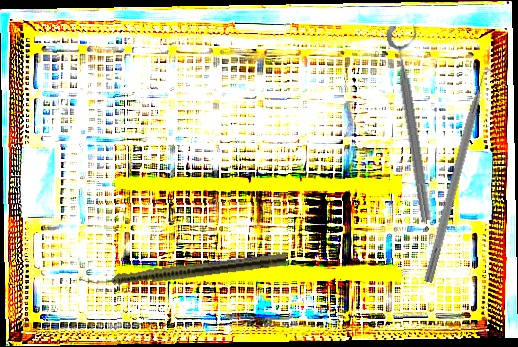Chopper: (423, 59, 504, 287)
Fixation Ring: (385, 22, 448, 222)
Handpiece: (78, 250, 288, 292)
